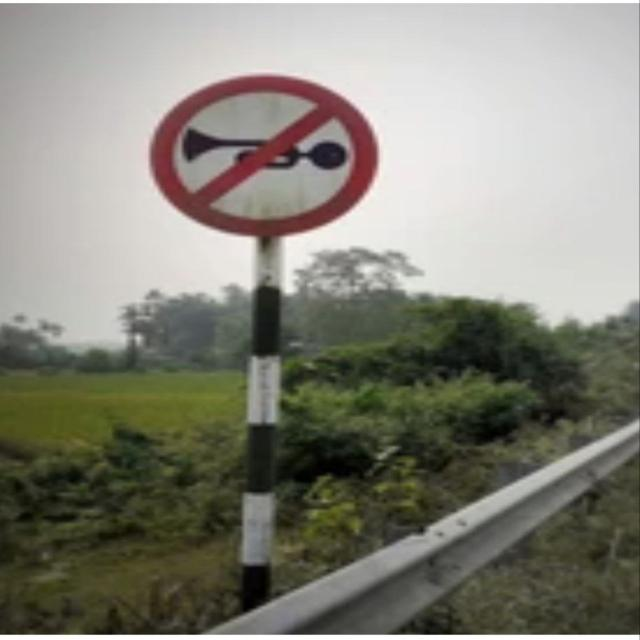No_Horn: (150, 76, 375, 233)
